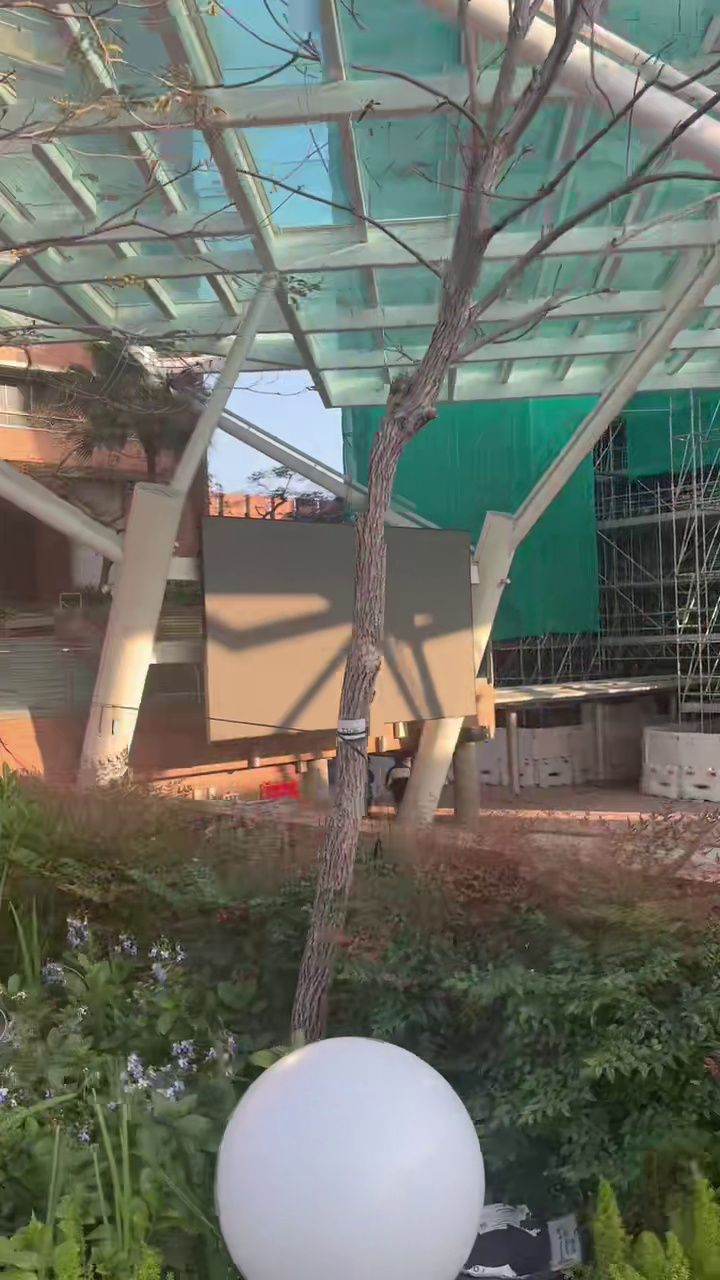Tabebuia chrysantha: (292, 0, 719, 1042)
